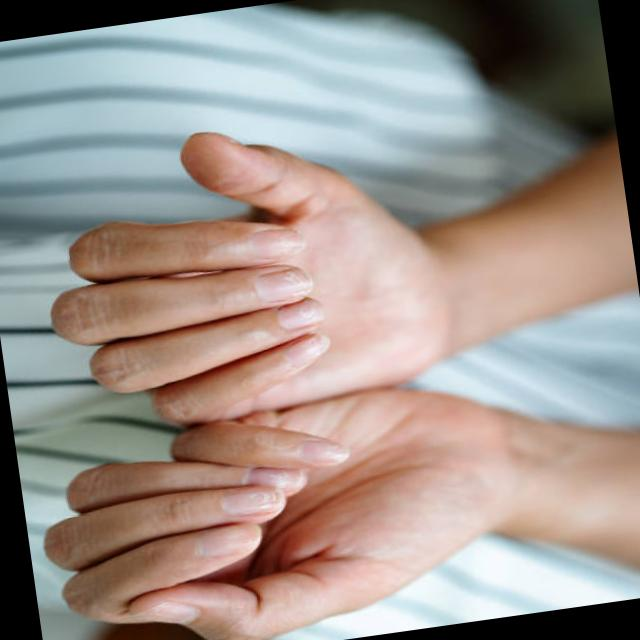Nail: (193, 525, 260, 558), (256, 268, 313, 303), (219, 489, 284, 519), (246, 468, 305, 497), (253, 229, 303, 262), (276, 299, 323, 331), (141, 603, 198, 626), (285, 335, 328, 364), (300, 441, 347, 466)
